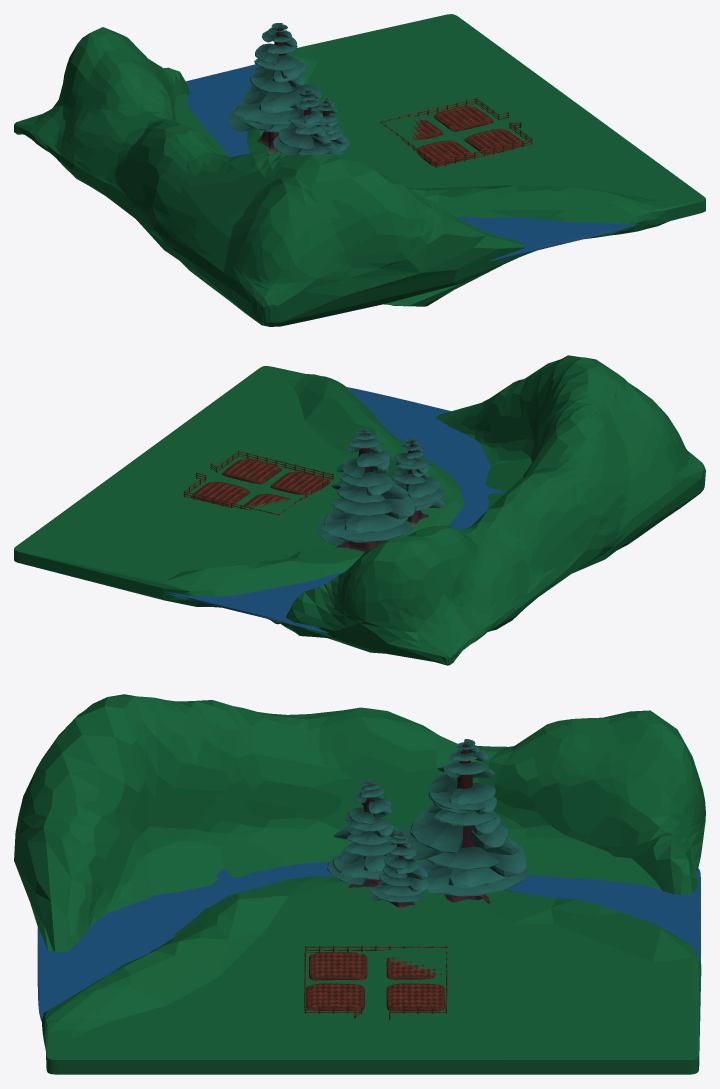
The model's file is farm with color.fbx.
3 views of the same model, one above another, from view 1: azimuth 30°, elevation 25°; view 2: azimuth 150°, elevation 25°; view 3: azimuth 270°, elevation 25° (orthographic). The views are drawn at different scales.
Visible parts, largest first — view 1: farm; view 2: farm; view 3: farm.
Boxes of the visible parts, x1=… form: farm: x1=14, y1=14, x2=705, y2=326; farm: x1=14, y1=355, x2=705, y2=665; farm: x1=14, y1=694, x2=705, y2=1074.
Size of the model in its own units: 40023 by 13647 by 41790.
